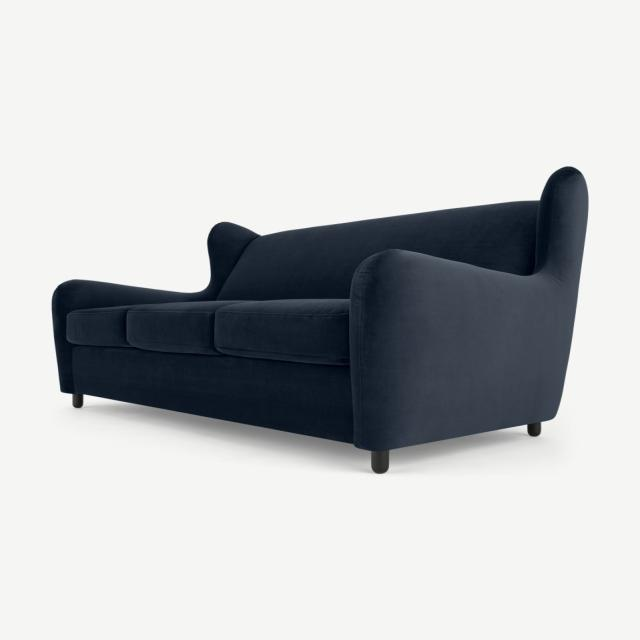back_cushion: (218, 201, 537, 300)
left_arm: (350, 168, 587, 450)
legs: (370, 450, 388, 474), (527, 423, 541, 436), (71, 394, 83, 408)
right_arm: (52, 222, 258, 393)
seat_cushion: (66, 299, 349, 364)
stallion-sofa: (51, 167, 587, 473)
